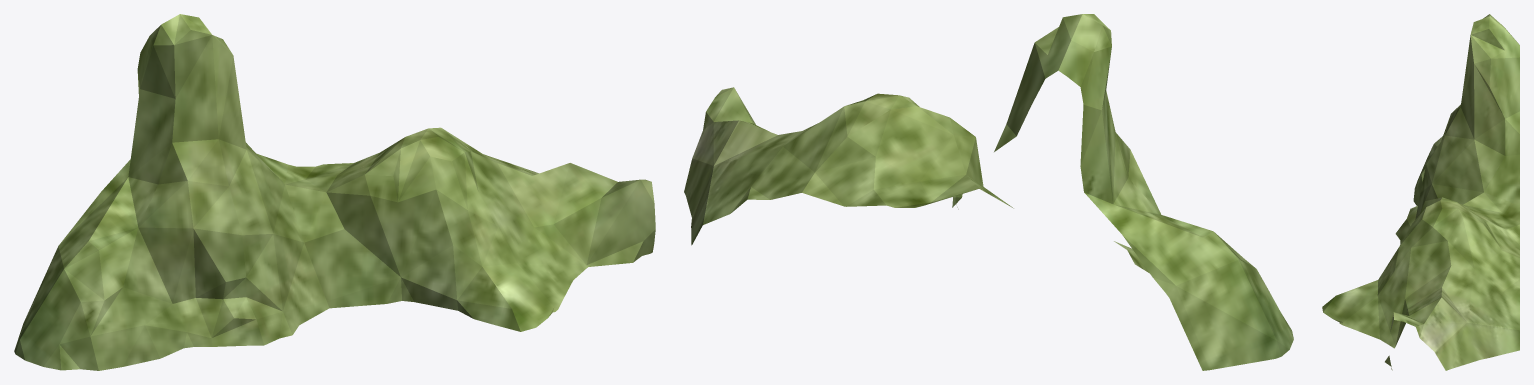
3 views of the same model, side by side, from view 1: azimuth 30°, elevation 25°; view 2: azimuth 150°, elevation 25°; view 3: azimuth 270°, elevation 25° (orthographic). The views are drawn at different scales.
Bounding box in the file's own units: 2.4 × 1.14 × 0.9674.
Materials: 1 (1 with a texture image).
